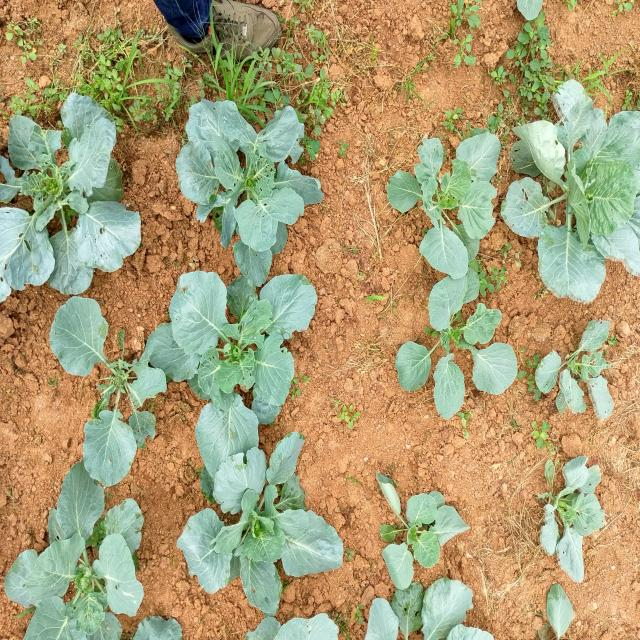Cabbage: (182, 423, 354, 634), (149, 252, 321, 463), (0, 84, 154, 289), (510, 61, 637, 308), (0, 459, 160, 640), (30, 283, 169, 475), (179, 87, 330, 255), (388, 269, 519, 425), (386, 125, 502, 288), (363, 556, 498, 640), (533, 446, 617, 579), (531, 311, 622, 422), (374, 476, 470, 575)
